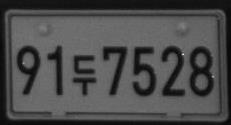1: (44, 45, 70, 95)
2: (160, 44, 185, 97)
5: (132, 46, 157, 97)
7: (102, 45, 128, 94)
8: (188, 44, 214, 97)
9: (15, 44, 41, 95)
두: (72, 54, 97, 95)
